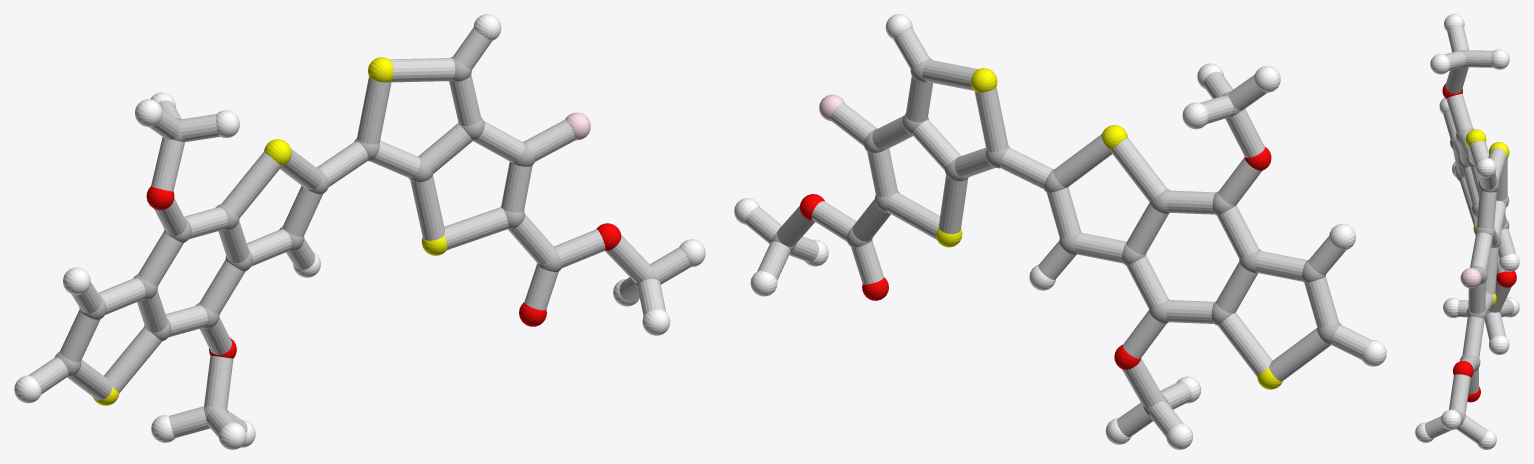
File: Dimethoxy_Benzodithiophene_Phi_15_Theta_160_Methylcarbonyl_3_Fluoro_Thienothiophene.glb
3 renders of one model, left to right at view 1: azimuth 30°, elevation 25°; view 2: azimuth 150°, elevation 25°; view 3: azimuth 270°, elevation 25°, orthographic. The views are drawn at different scales.
Visible parts, largest first — view 1: grp15205, grp8689, grp1, grp7241, grp13395; view 2: grp15205, grp8689, grp1, grp7241, grp13395; view 3: grp15205, grp8689, grp1, grp13395, grp7241, grp14843.
Part boxes in pixels (bbox=[...]): grp15205: bbox=[28, 27, 691, 437]; grp8689: bbox=[14, 14, 705, 449]; grp1: bbox=[54, 56, 659, 418]; grp7241: bbox=[93, 57, 447, 405]; grp13395: bbox=[146, 186, 621, 358]; grp15205: bbox=[745, 28, 1370, 437]; grp8689: bbox=[734, 14, 1386, 449]; grp1: bbox=[770, 58, 1341, 416]; grp7241: bbox=[936, 68, 1282, 389]; grp13395: bbox=[799, 146, 1271, 369]; grp15205: bbox=[1425, 25, 1515, 443]; grp8689: bbox=[1415, 14, 1519, 449]; grp1: bbox=[1450, 49, 1509, 428]; grp13395: bbox=[1442, 83, 1516, 402]; grp7241: bbox=[1465, 129, 1509, 307]; grp14843: bbox=[1460, 268, 1481, 288].
Bounding box in the file's own units: 16.86 × 9.43 × 3.04.
